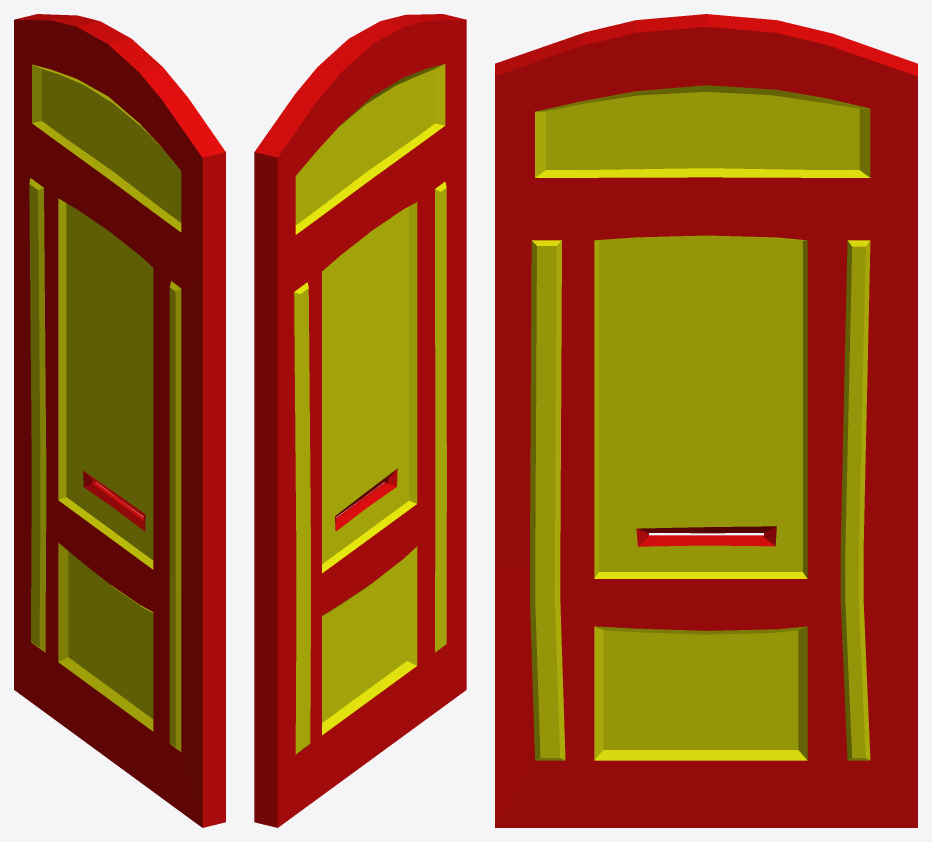
The model's file is BaseDoor.fbx.
3 views of the same model, side by side, from view 1: azimuth 30°, elevation 25°; view 2: azimuth 150°, elevation 25°; view 3: azimuth 270°, elevation 25° (orthographic). The views are drawn at different scales.
Parts seen in each view (by area): view 1: Base_Door; view 2: Base_Door; view 3: Base_Door.
Part boxes in pixels (x1,y1,x2,y2): Base_Door: (14,14,225,827); Base_Door: (254,14,466,827); Base_Door: (495,14,917,827).
Size of the model in its own units: 13.8 by 309 by 148.
